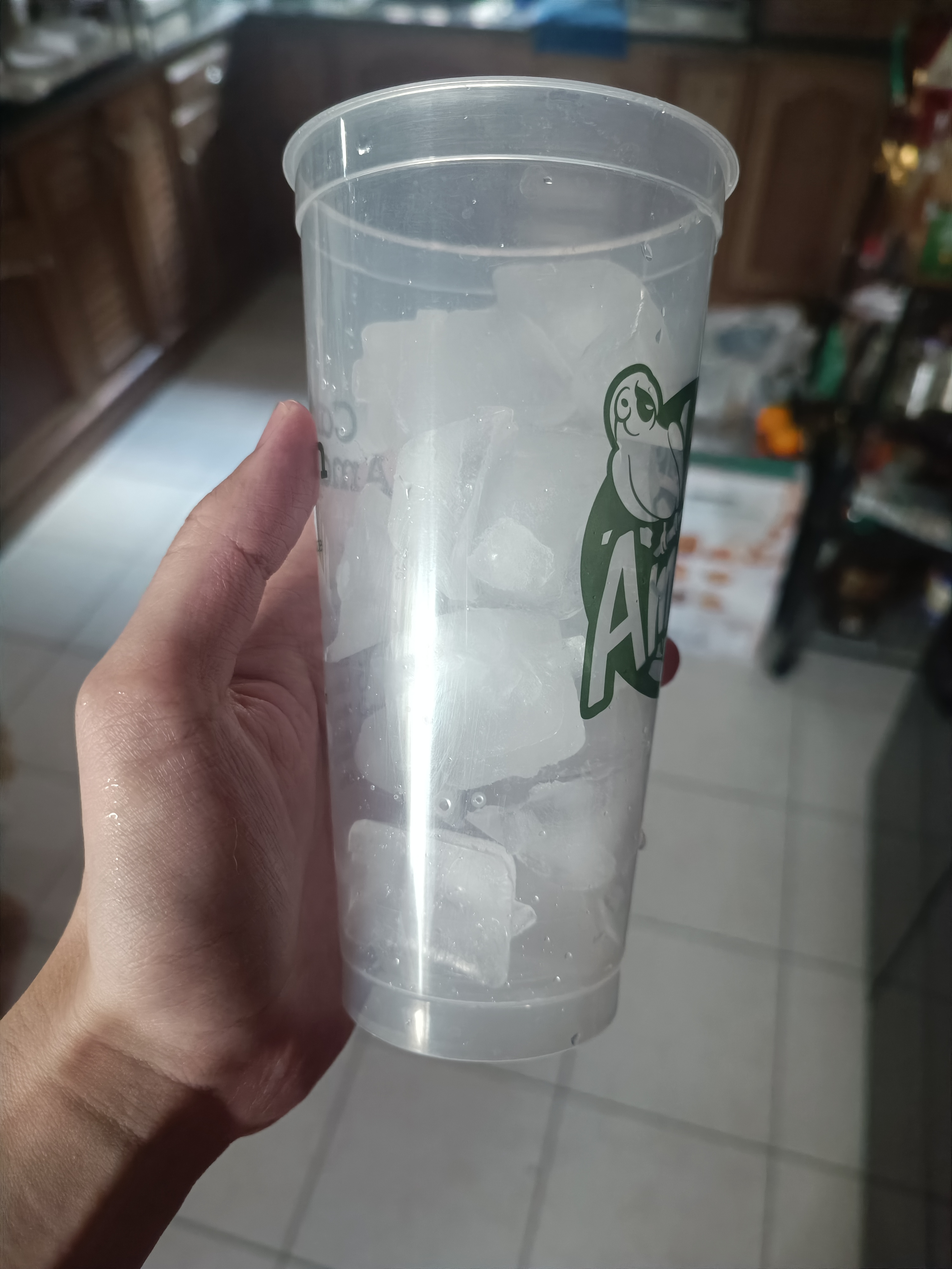plastic: (263, 79, 760, 1061)
